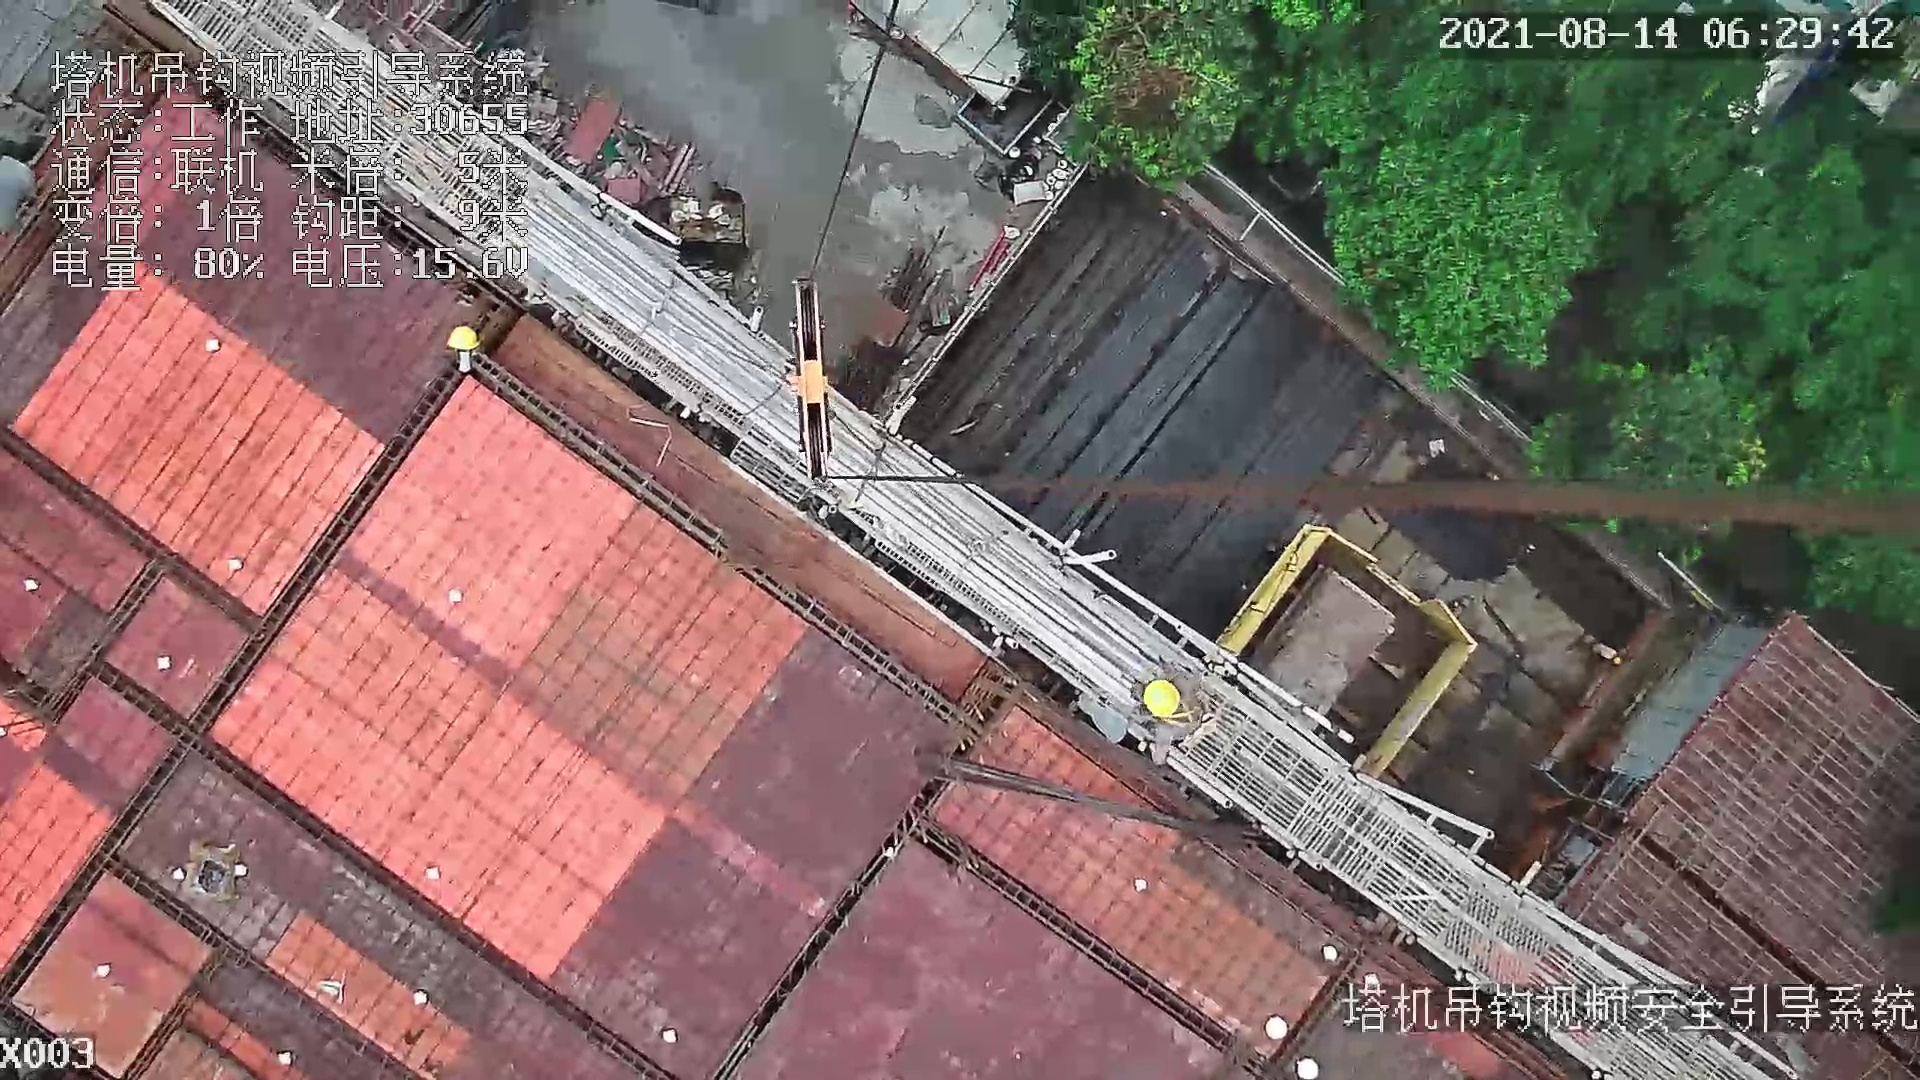helmet: (1141, 676, 1185, 722), (447, 326, 485, 349)
hook: (778, 277, 837, 490)
person: (1141, 664, 1241, 773)
rebar: (910, 194, 1337, 601)
